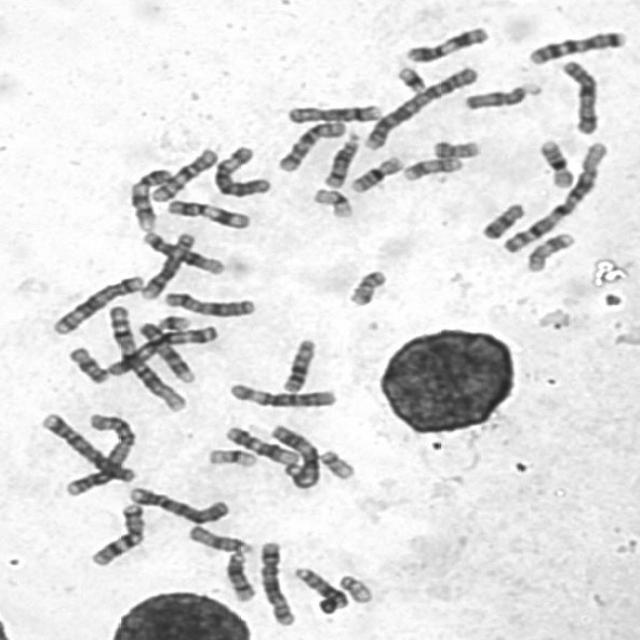A1: (496, 136, 612, 256), (102, 299, 190, 414)
A2: (358, 60, 481, 152), (58, 409, 136, 498)
A3: (101, 320, 222, 378), (265, 419, 323, 489)
B4: (36, 408, 140, 484), (122, 482, 232, 525)
B5: (46, 270, 146, 336), (254, 535, 298, 628)
C10: (272, 115, 350, 173), (146, 142, 220, 203)
C11: (399, 21, 492, 64), (161, 194, 253, 231)
C12: (136, 227, 227, 276), (220, 421, 300, 466)
C6: (222, 376, 340, 409), (208, 141, 274, 198)
C7: (83, 498, 148, 568), (522, 25, 629, 67)
C8: (135, 227, 198, 300), (281, 100, 384, 124)
C9: (134, 317, 198, 384), (123, 162, 175, 230)
D13: (288, 562, 350, 613), (277, 333, 319, 394)
D14: (318, 126, 362, 189), (220, 546, 258, 603)
D15: (458, 77, 543, 112), (183, 521, 255, 555)
E16: (345, 150, 406, 194), (533, 134, 577, 189)
E17: (521, 227, 577, 274), (397, 152, 465, 182)
E18: (476, 197, 528, 241), (62, 341, 110, 385)
F19: (307, 183, 356, 220), (201, 443, 258, 470)
F20: (343, 264, 390, 308), (428, 135, 482, 160)
G21: (390, 61, 429, 94), (152, 310, 192, 333)
G22: (313, 444, 358, 481), (333, 570, 375, 605)
X: (556, 55, 602, 136), (158, 286, 257, 318)
